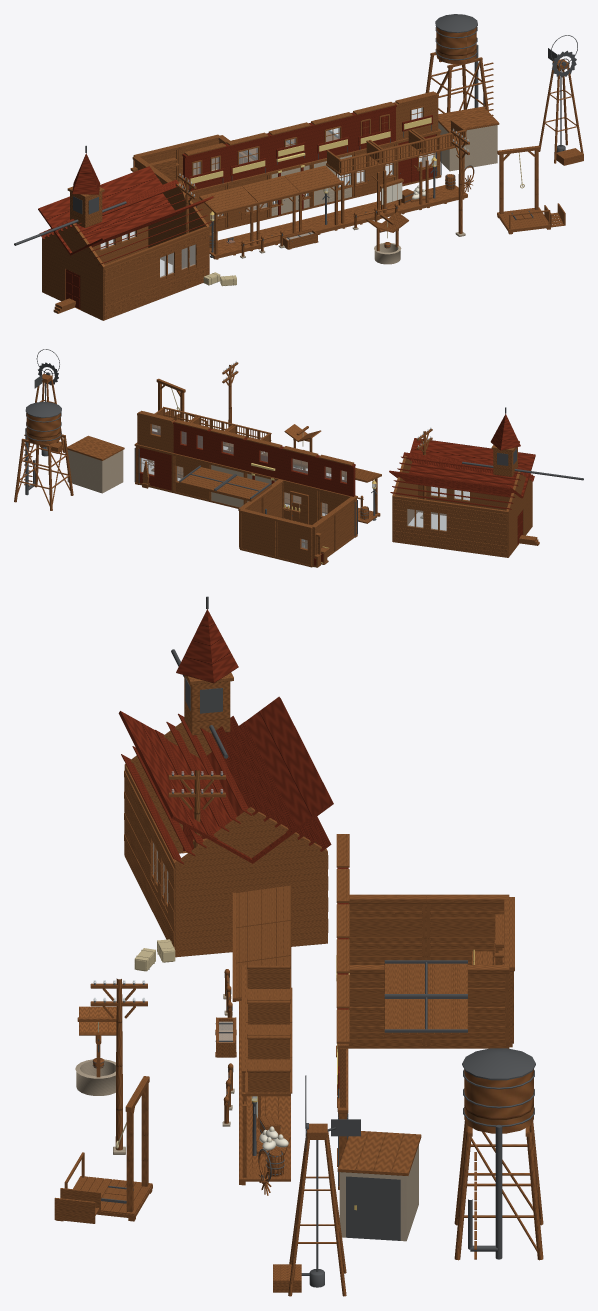
The model's file is model-western.glb.
3 views of the same model, one above another, from view 1: azimuth 30°, elevation 25°; view 2: azimuth 150°, elevation 25°; view 3: azimuth 270°, elevation 25° (orthographic). The views are drawn at different scales.
Parts seen in each view (by area): view 1: 056-frontier-church/0, 056-frontier-church/2, 058-timber-water-tower/0, 061-town-gallows/0, 005-undertaker-facade-bay/0, 057-jail-cell-block/0, 059-windmill-water-pump/0, 002-bank-facade-bay/2, 004-hotel-facade-bay/0, 001-general-store-facade-bay/0, 003-sheriff-office-facade-bay/2, 000-saloon-facade-bay/1 (+34 smaller); view 2: 056-frontier-church/0, 056-frontier-church/2, 058-timber-water-tower/0, 057-jail-cell-block/0, 005-undertaker-facade-bay/0, 024-rear-wall-door-bay/0, 025-clapboard-wall-bay/0, 004-hotel-facade-bay/0, 000-saloon-facade-bay/1, 002-bank-facade-bay/2, 001-general-store-facade-bay/0, 003-sheriff-office-facade-bay/2 (+26 smaller); view 3: 056-frontier-church/0, 056-frontier-church/2, 058-timber-water-tower/0, 020-clapboard-wall-bay/0, 061-town-gallows/0, 021-clapboard-wall-bay/0, 023-clapboard-wall-bay/0, 058-timber-water-tower/1, 022-clapboard-wall-bay/0, 057-jail-cell-block/2, 059-windmill-water-pump/0, 019-upper-balcony-section/0 (+17 smaller).
Part boxes in pixels (box(x1,y1,x2,y2)): 056-frontier-church/0: box(42, 183, 209, 320); 056-frontier-church/2: box(38, 153, 213, 265); 058-timber-water-tower/0: box(425, 27, 493, 115); 061-town-gallows/0: box(497, 145, 565, 234); 005-undertaker-facade-bay/0: box(394, 91, 438, 186); 057-jail-cell-block/0: box(438, 122, 497, 171); 059-windmill-water-pump/0: box(538, 59, 583, 165); 002-bank-facade-bay/2: box(267, 123, 312, 215); 004-hotel-facade-bay/0: box(353, 102, 396, 197); 001-general-store-facade-bay/0: box(226, 132, 269, 228); 003-sheriff-office-facade-bay/2: box(309, 113, 354, 161); 000-saloon-facade-bay/1: box(182, 144, 227, 190); 056-frontier-church/0: box(392, 441, 539, 557); 056-frontier-church/2: box(389, 414, 535, 509); 058-timber-water-tower/0: box(14, 413, 73, 510); 057-jail-cell-block/0: box(67, 450, 123, 493); 005-undertaker-facade-bay/0: box(137, 410, 174, 492); 024-rear-wall-door-bay/0: box(275, 517, 313, 567); 025-clapboard-wall-bay/0: box(239, 509, 277, 558); 004-hotel-facade-bay/0: box(173, 419, 210, 501); 000-saloon-facade-bay/1: box(317, 455, 355, 496); 002-bank-facade-bay/2: box(245, 438, 283, 483); 001-general-store-facade-bay/0: box(282, 446, 318, 525); 003-sheriff-office-facade-bay/2: box(209, 429, 247, 470); 056-frontier-church/0: box(124, 672, 328, 957); 056-frontier-church/2: box(118, 609, 333, 864); 058-timber-water-tower/0: box(454, 1069, 543, 1260); 020-clapboard-wall-bay/0: box(348, 894, 426, 964); 061-town-gallows/0: box(54, 1076, 152, 1223); 021-clapboard-wall-bay/0: box(426, 894, 509, 964); 023-clapboard-wall-bay/0: box(426, 965, 509, 1048); 058-timber-water-tower/1: box(462, 1048, 535, 1259); 022-clapboard-wall-bay/0: box(348, 965, 426, 1048); 057-jail-cell-block/2: box(346, 1176, 400, 1240); 059-windmill-water-pump/0: box(273, 1123, 346, 1296); 019-upper-balcony-section/0: box(241, 1035, 292, 1096).
Bounding box in the file's own units: 45.72 × 11.26 × 18.81.
Materials: 11 (5 with a texture image).
